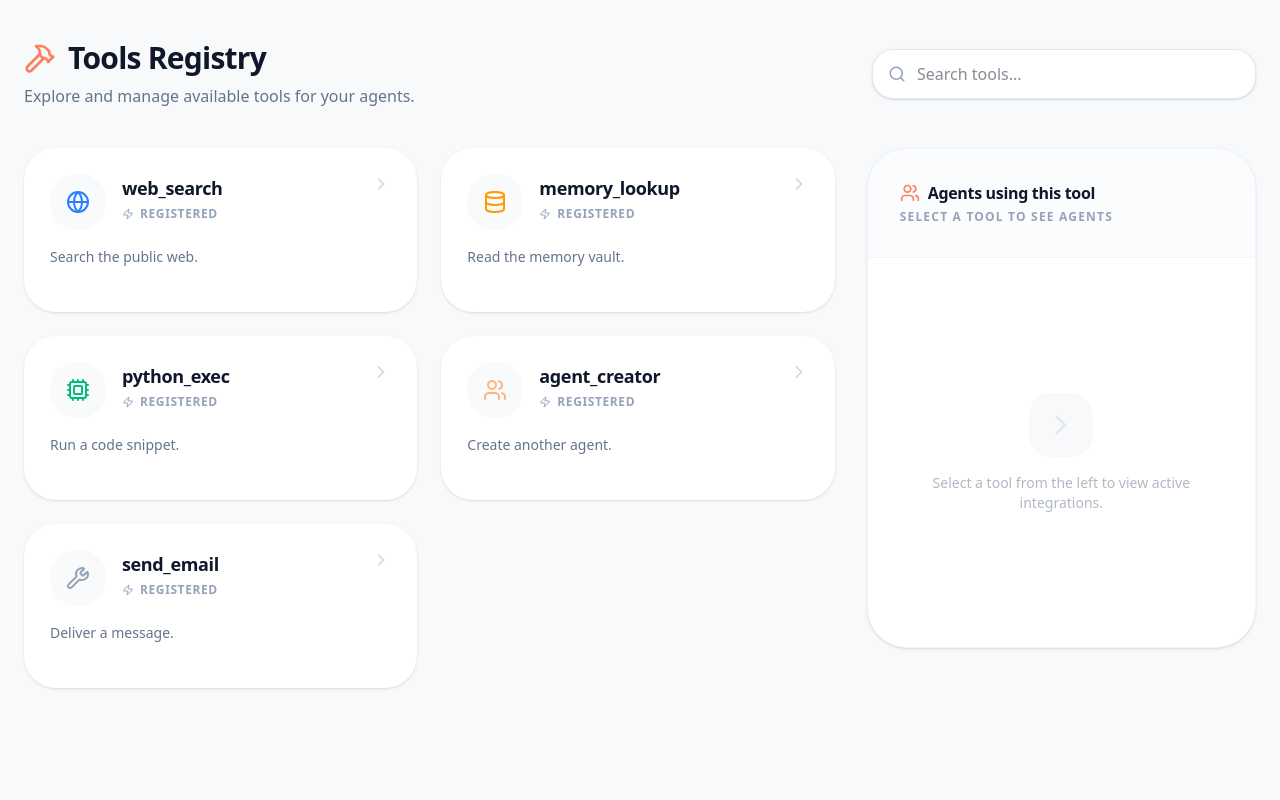
Test: the tools page › search › reports no match
Check: the heading "web_search" is shown, box left=122, top=176, right=223, bottom=200
Type "zzz" into the field with placeholder "Search tools...".
click(1064, 74); type("zzz")  # box left=872, top=49, right=1256, bottom=99
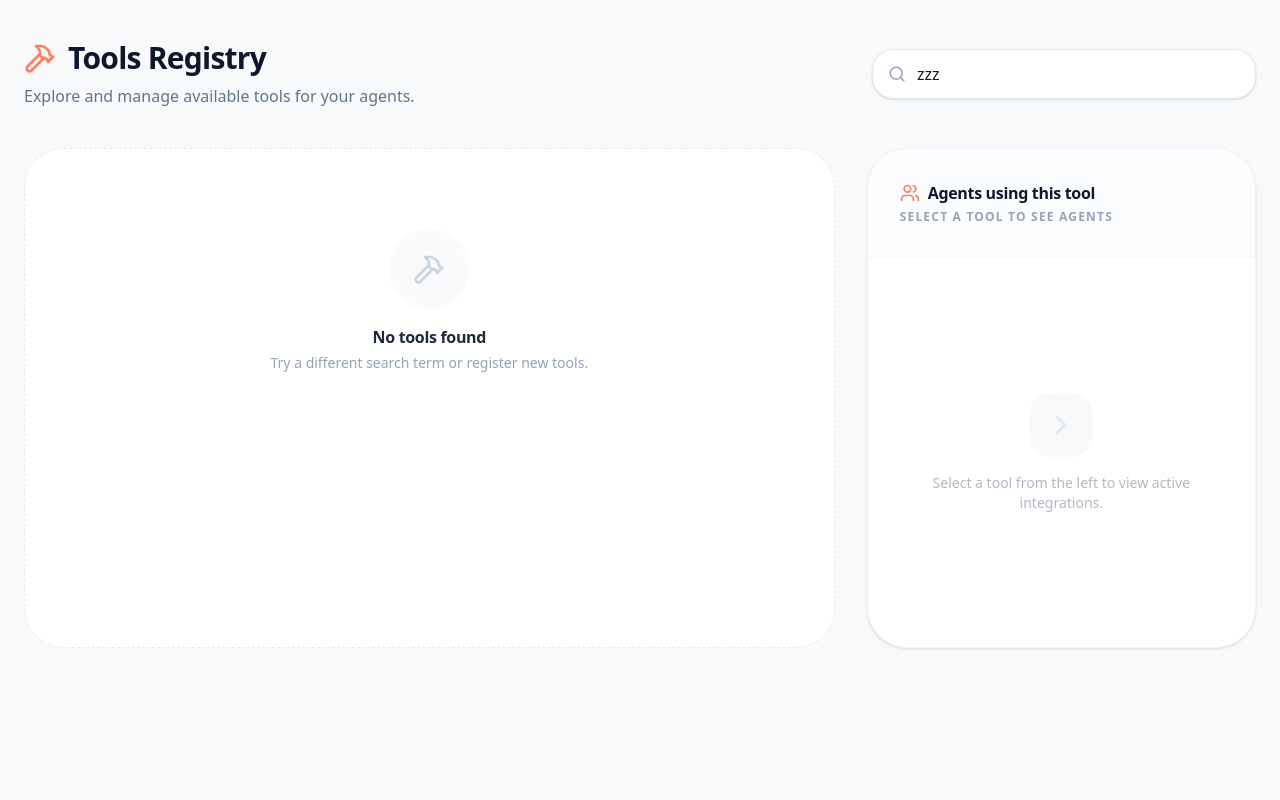
Check: the heading "No tools found" is shown, box left=372, top=326, right=486, bottom=348
